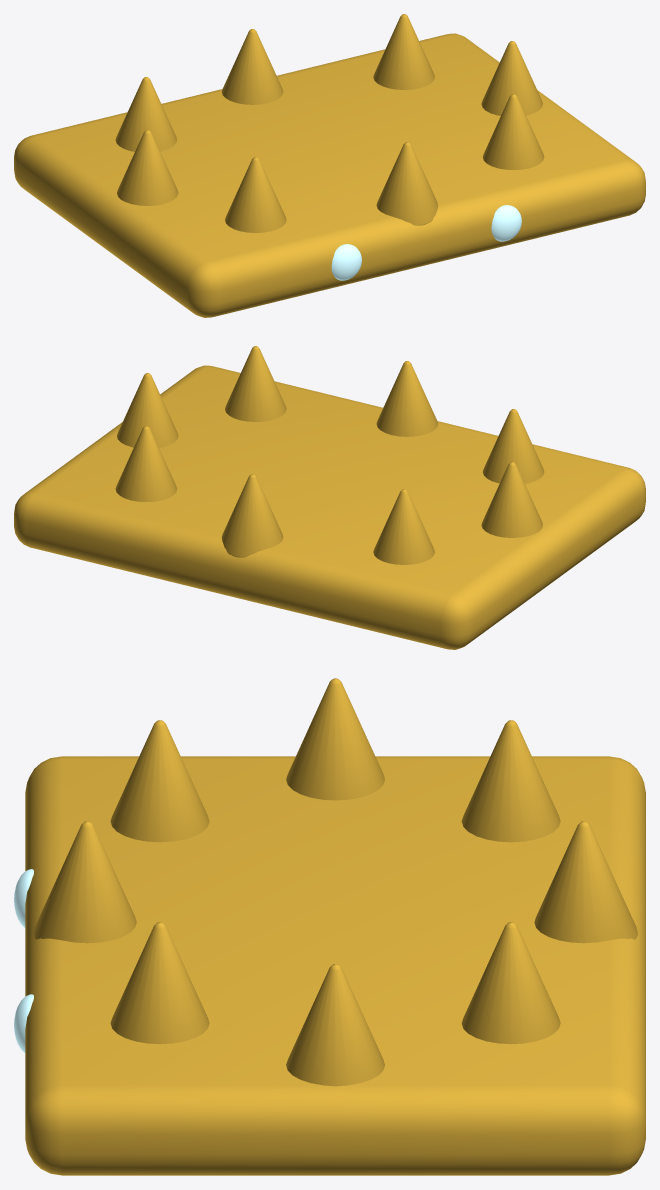
The model's file is part_crown.glb.
3 views of the same model, one above another, from view 1: azimuth 30°, elevation 25°; view 2: azimuth 150°, elevation 25°; view 3: azimuth 270°, elevation 25° (orthographic). The views are drawn at different scales.
Parts seen in each view (by area): view 1: Crown_Band, Crown_Point4, Crown_Point3, Crown_Point1, Crown_Point5, Crown_Point6, Crown_Point0, Crown_Point7, Crown_Point2, Crown_Gem0, Crown_Gem1; view 2: Crown_Band, Crown_Point0, Crown_Point1, Crown_Point3, Crown_Point6, Crown_Point7, Crown_Point4, Crown_Point5, Crown_Point2; view 3: Crown_Band, Crown_Point0, Crown_Point4, Crown_Point2, Crown_Point5, Crown_Point6, Crown_Point3, Crown_Point7, Crown_Point1.
Part boxes in pixels (x1=…): Crown_Band: x1=14, y1=33, x2=645, y2=317; Crown_Point4: x1=376, y1=142, x2=438, y2=225; Crown_Point3: x1=483, y1=94, x2=544, y2=169; Crown_Point1: x1=373, y1=14, x2=434, y2=89; Crown_Point5: x1=225, y1=157, x2=286, y2=232; Crown_Point6: x1=117, y1=130, x2=178, y2=205; Crown_Point0: x1=222, y1=29, x2=283, y2=104; Crown_Point7: x1=115, y1=77, x2=176, y2=151; Crown_Point2: x1=481, y1=41, x2=542, y2=115; Crown_Gem0: x1=331, y1=244, x2=361, y2=280; Crown_Gem1: x1=491, y1=205, x2=521, y2=241; Crown_Band: x1=14, y1=365, x2=645, y2=649; Crown_Point0: x1=221, y1=474, x2=283, y2=557; Crown_Point1: x1=115, y1=426, x2=176, y2=502; Crown_Point3: x1=225, y1=346, x2=286, y2=421; Crown_Point6: x1=481, y1=462, x2=542, y2=537; Crown_Point7: x1=373, y1=489, x2=434, y2=564; Crown_Point4: x1=376, y1=361, x2=437, y2=436; Crown_Point5: x1=483, y1=409, x2=544, y2=483; Crown_Point2: x1=117, y1=373, x2=178, y2=447; Crown_Band: x1=25, y1=756, x2=645, y2=1175; Crown_Point0: x1=534, y1=821, x2=637, y2=943; Crown_Point4: x1=33, y1=821, x2=136, y2=943; Crown_Point2: x1=286, y1=964, x2=384, y2=1086; Crown_Point5: x1=110, y1=720, x2=209, y2=842; Crown_Point6: x1=286, y1=678, x2=384, y2=800; Crown_Point3: x1=110, y1=922, x2=209, y2=1044; Crown_Point7: x1=461, y1=720, x2=560, y2=842; Crown_Point1: x1=461, y1=922, x2=560, y2=1044.
Size of the model in its own units: 1.14 by 0.28 by 0.8532.
